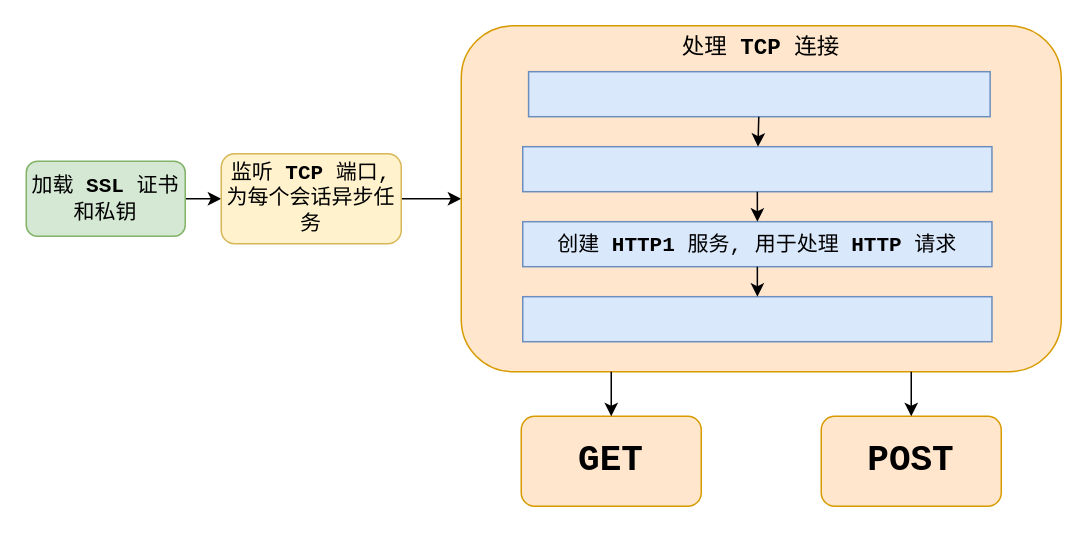
Image size: 1088x534. Some labels were removed from this diagram. The shapes that lost their labels are listed below. From the top down, each one's box as (x1, y1, x2, y2) in pixels, then its label:
(527, 70, 990, 117): 创建 SSL 上下文, 将 TCP 流转为 TLS 流
(521, 145, 992, 192): 创建 TokioIo 流, 用于处理 TLS 流
(521, 295, 992, 342): 处理客户端连接
